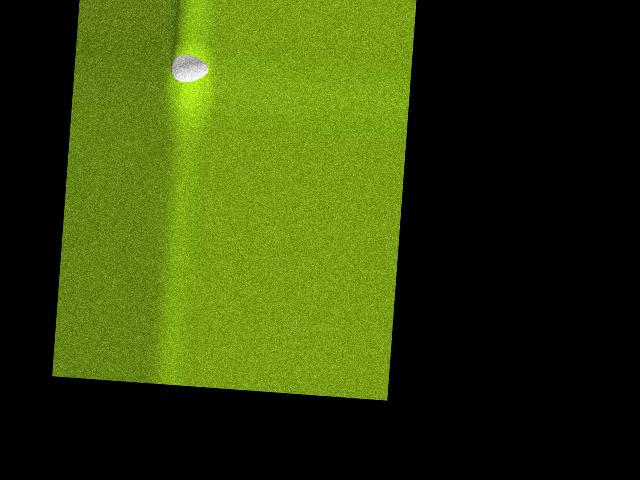egg: (170, 53, 210, 83)
